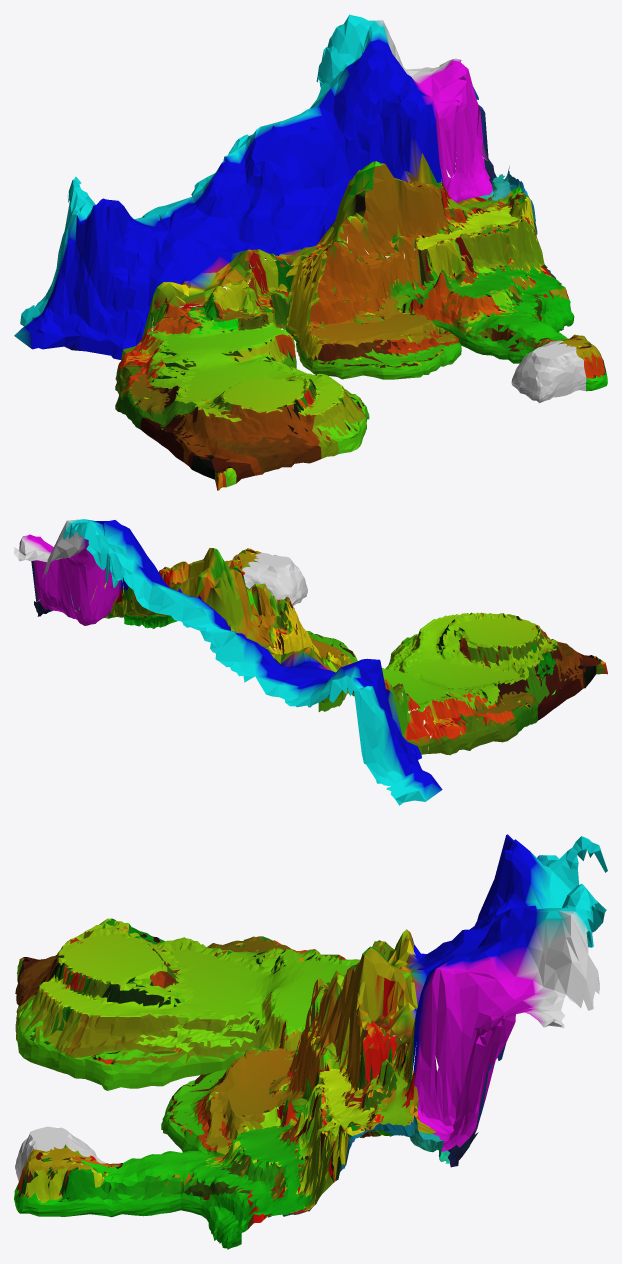
The model's file is T-Cuarta parte.FBX.
The picture shows the model from 3 angles, top to bottom: view 1: azimuth 30°, elevation 25°; view 2: azimuth 150°, elevation 25°; view 3: azimuth 270°, elevation 25°; orthographic projection. The views are drawn at different scales.
Visible parts, largest first — view 1: z78, z74, z40, z31, z76, z48, z42, z47, z49, z75, z58, z55 (+23 smaller); view 2: z78, z71, z75, z40, z76, z70, z51, z73, z60, z59, z72, z34 (+5 smaller); view 3: z78, z57, z40, z31, z56, z39, z58, z34, z60, z47, z46, z70 (+20 smaller).
Boxes of the visible parts, box(x1,y1,x2,y2) form: z78: box(14, 14, 488, 360); z74: box(215, 403, 321, 490); z40: box(511, 334, 607, 403); z31: box(497, 203, 574, 332); z76: box(162, 401, 241, 489); z48: box(318, 242, 386, 346); z42: box(421, 237, 489, 331); z47: box(354, 248, 431, 340); z49: box(309, 339, 405, 379); z75: box(116, 371, 198, 445); z58: box(295, 386, 364, 458); z55: box(215, 312, 296, 368); z78: box(14, 519, 442, 805); z71: box(422, 695, 512, 755); z75: box(481, 666, 558, 737); z40: box(225, 548, 307, 605); z76: box(523, 630, 607, 705); z70: box(442, 612, 511, 664); z51: box(257, 591, 308, 652); z73: box(488, 613, 544, 666); z60: box(419, 648, 493, 689); z59: box(392, 676, 477, 707); z72: box(468, 659, 526, 696); z34: box(78, 577, 124, 625); z78: box(316, 834, 607, 1132); z57: box(51, 978, 172, 1090); z40: box(14, 1126, 109, 1216); z31: box(205, 1127, 348, 1249); z56: box(165, 998, 263, 1081); z39: box(99, 1150, 201, 1217); z58: box(15, 962, 93, 1069); z34: box(389, 1034, 464, 1133); z60: box(170, 963, 268, 1006); z47: box(209, 999, 320, 1117); z46: box(161, 1087, 237, 1156); z70: box(71, 950, 177, 1000).
Size of the model in its own units: 13865 by 6943 by 11921.
